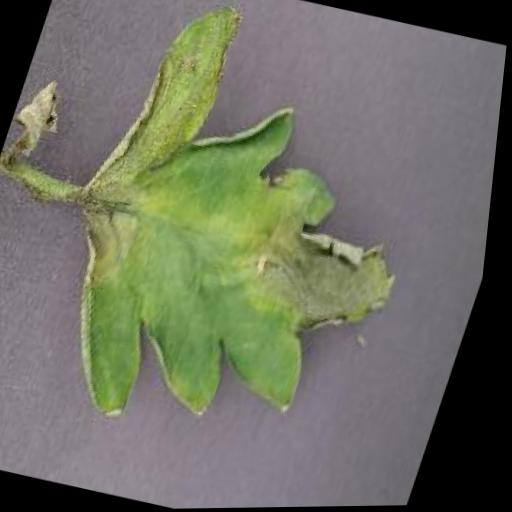Late Blight: (15, 0, 485, 472)
